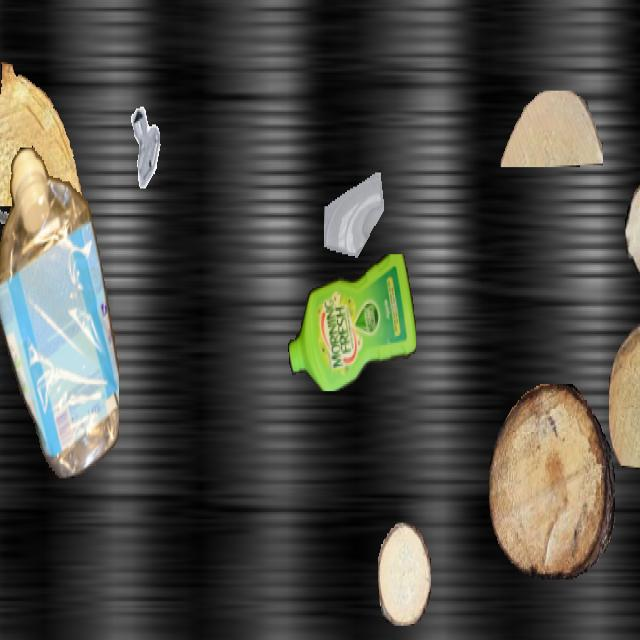glass: (324, 171, 386, 281), (0, 236, 3, 400)
metal: (124, 101, 172, 187), (0, 185, 26, 263)
plastic: (0, 144, 118, 478), (288, 255, 416, 390), (0, 2, 3, 212)
wood: (489, 384, 615, 580), (0, 62, 93, 204), (500, 91, 602, 165), (378, 522, 430, 626), (609, 316, 640, 469), (625, 181, 640, 281)
